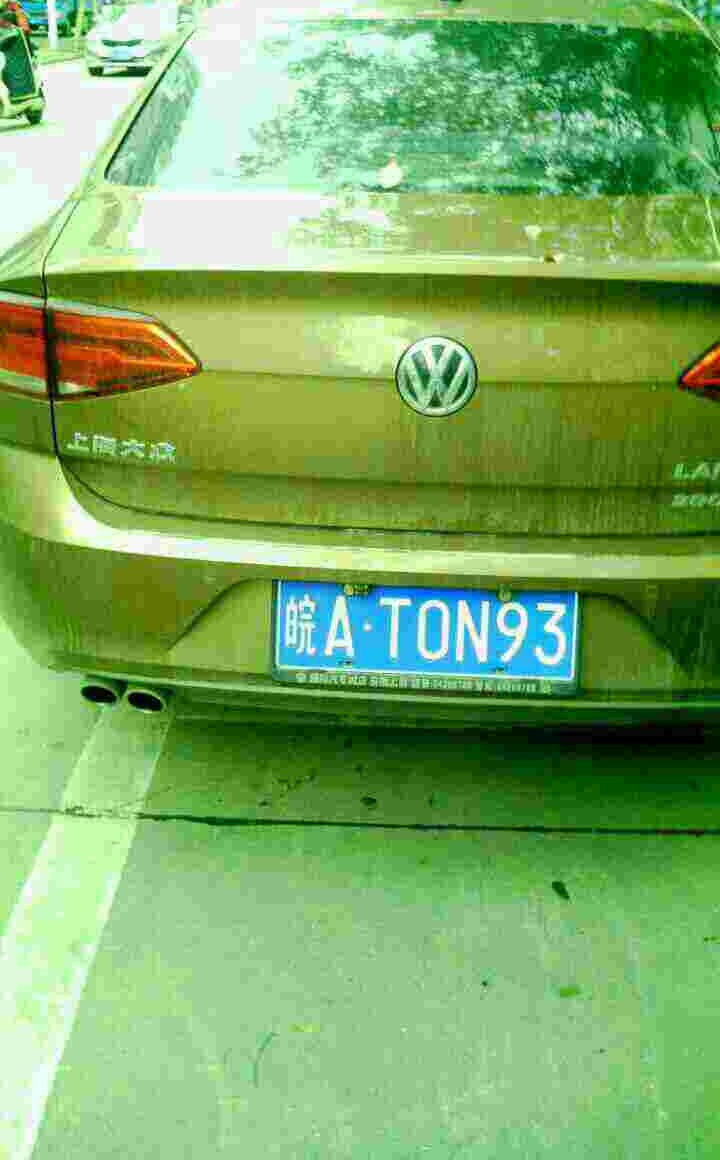license_plate: (286, 590, 567, 678)
